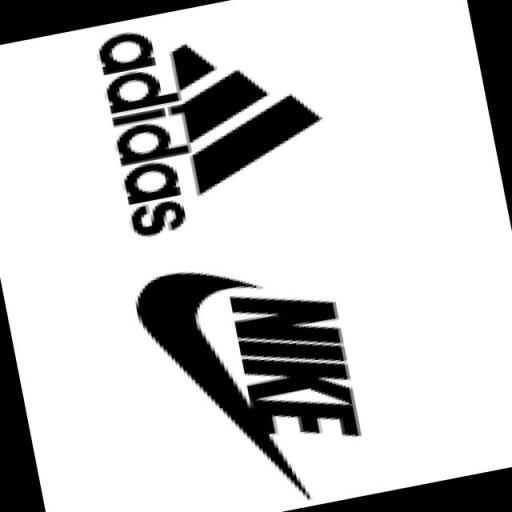Nike: (127, 256, 294, 492), (226, 274, 367, 458)
